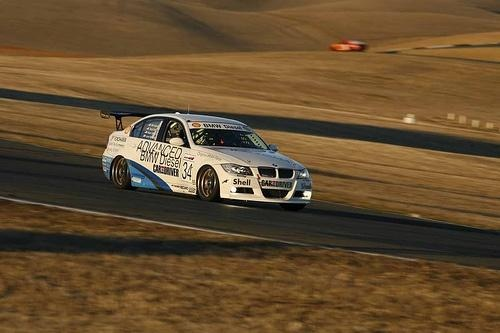car: (101, 109, 314, 211)
